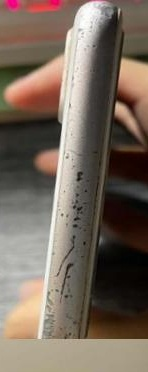scratch: (31, 246, 96, 339), (43, 147, 101, 248), (65, 0, 122, 85)
